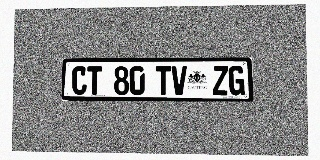0: (129, 66, 145, 95)
8: (114, 66, 129, 95)
C: (72, 66, 87, 95)
G: (229, 66, 245, 95)
T: (87, 66, 102, 95), (156, 66, 171, 95)
V: (171, 66, 187, 95)
Z: (212, 66, 228, 95)
